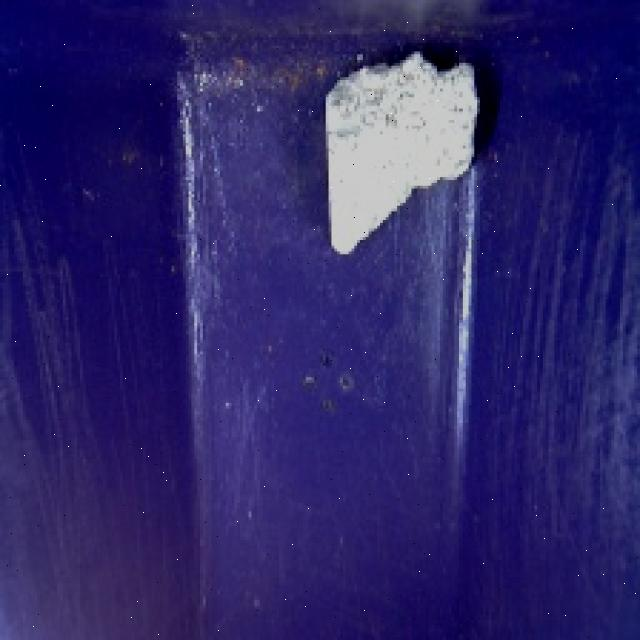brick: (319, 46, 504, 264)
